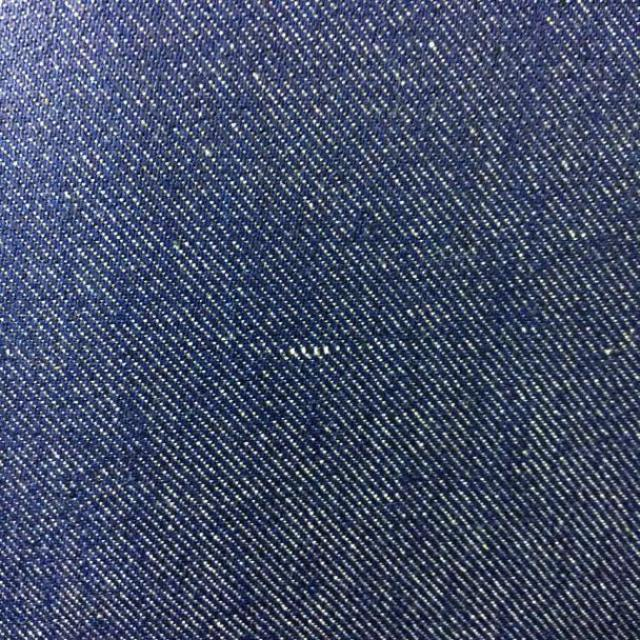Knot: (282, 345, 341, 361)
